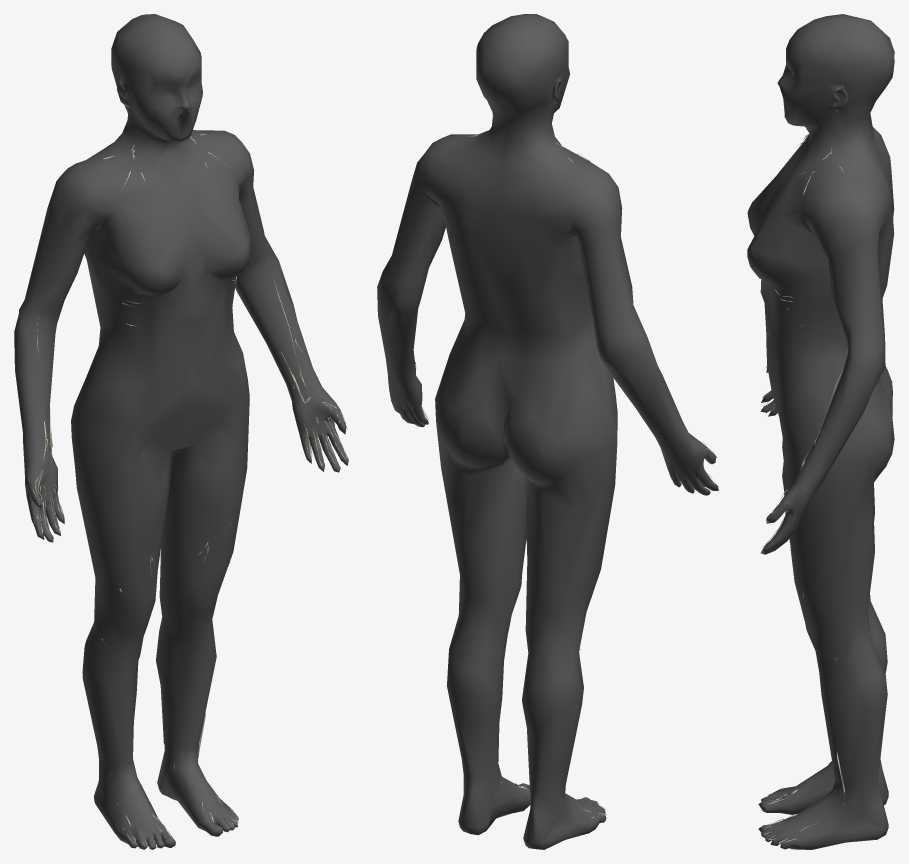
Rendered from nervous-system.mobile.glb.
The picture shows the model from 3 angles, left to right: view 1: azimuth 30°, elevation 25°; view 2: azimuth 150°, elevation 25°; view 3: azimuth 270°, elevation 25°; orthographic projection. The views are drawn at different scales.
Parts seen in each view (by area): view 1: female_skin_1, nervous_system_2; view 2: female_skin_1; view 3: female_skin_1, nervous_system_2.
Part boxes in pixels (left/top/right/bottom): female_skin_1: left=14, top=14, right=348, bottom=849; nervous_system_2: left=28, top=134, right=347, bottom=845; female_skin_1: left=377, top=14, right=718, bottom=849; female_skin_1: left=747, top=14, right=894, bottom=849; nervous_system_2: left=761, top=134, right=844, bottom=843.
Bounding box in the file's own units: 24154 × 59078 × 9729.
2 materials, 1 textured.
